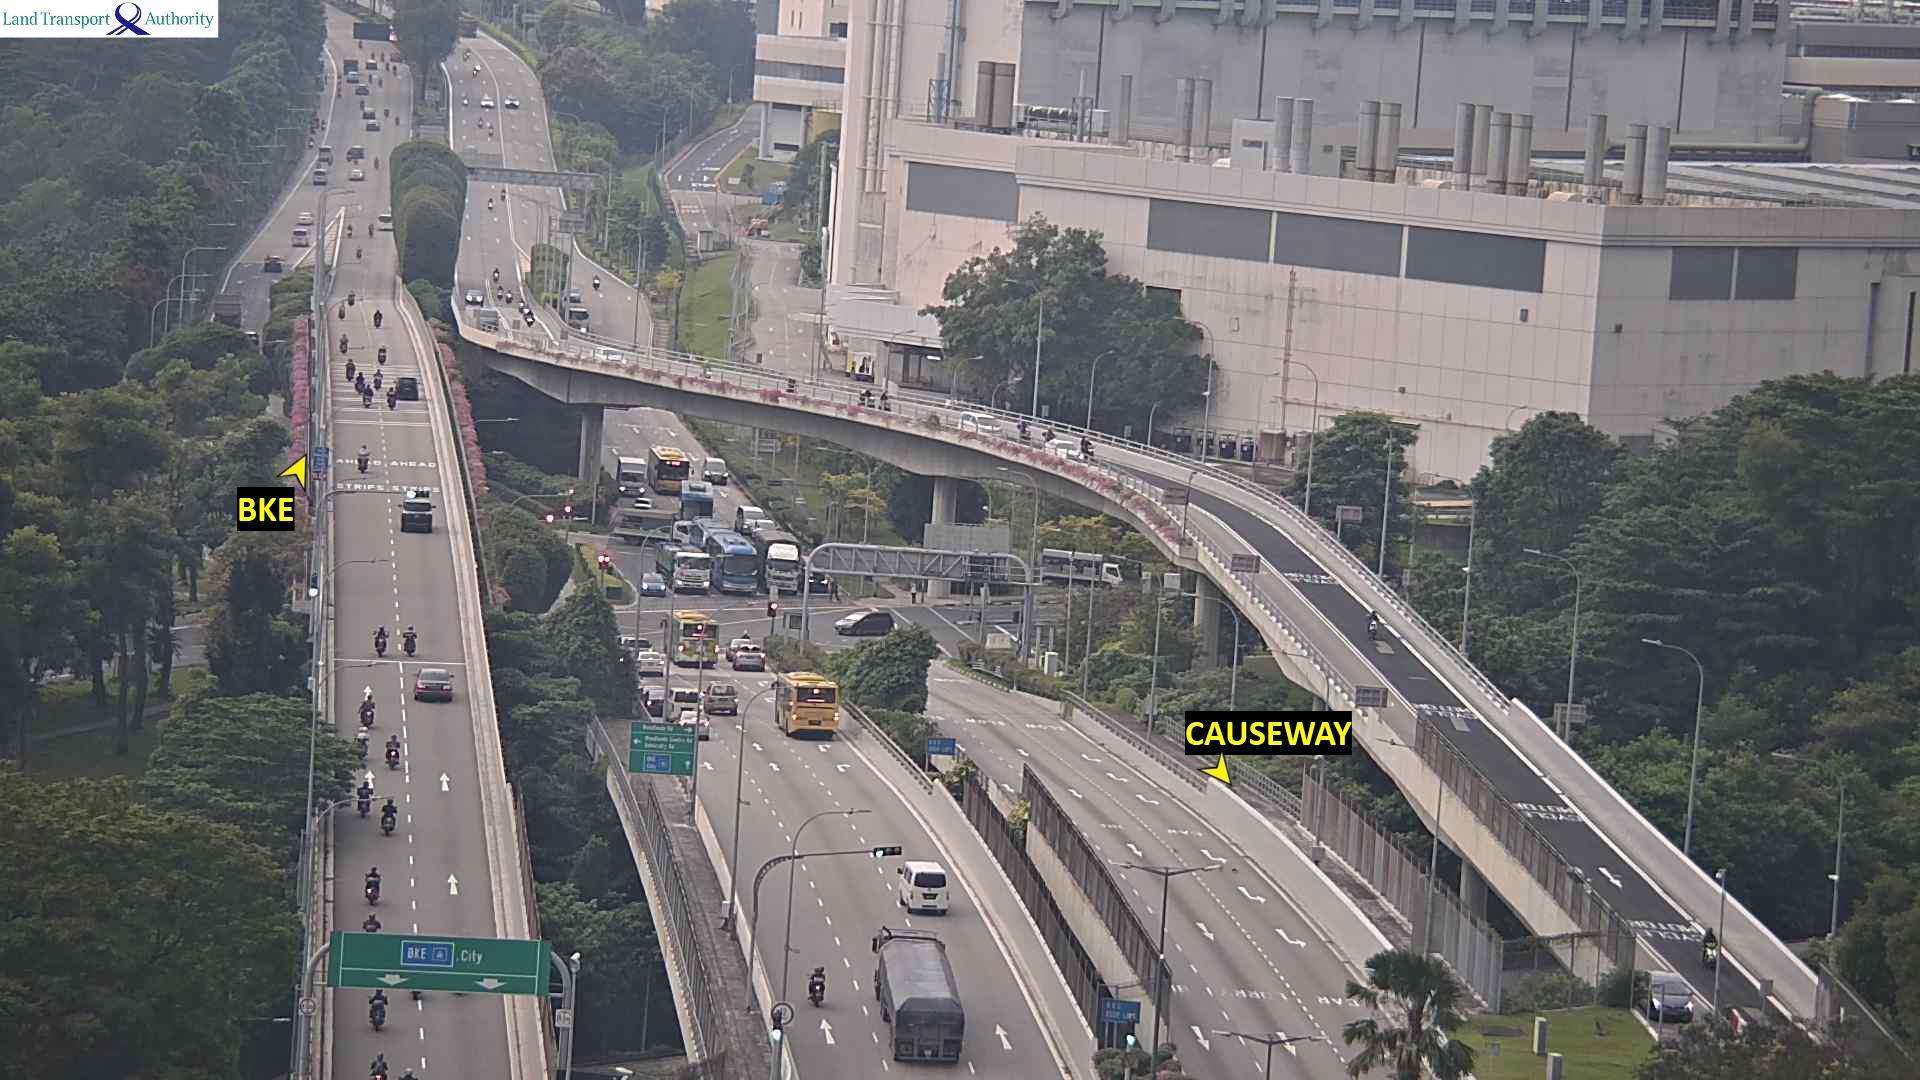vehicle-causeway-johor: (959, 411, 1005, 439), (465, 306, 498, 331), (1046, 439, 1083, 459), (589, 345, 625, 363), (1364, 608, 1379, 634), (1079, 435, 1095, 459), (462, 289, 484, 303), (860, 386, 872, 409), (1019, 419, 1031, 440), (700, 359, 712, 377), (880, 390, 890, 410), (786, 376, 795, 390), (525, 311, 534, 326), (1042, 429, 1054, 439), (506, 289, 513, 306), (493, 268, 500, 284), (497, 285, 504, 299)
vehicle-causeway-singapore: (870, 927, 963, 1062), (777, 670, 837, 741), (895, 857, 948, 916), (662, 611, 717, 665), (414, 663, 454, 702), (400, 498, 433, 537), (675, 712, 709, 740), (705, 683, 738, 711), (667, 687, 698, 716), (804, 965, 824, 1009), (735, 644, 766, 670), (369, 988, 384, 1029), (637, 651, 665, 673), (359, 694, 376, 725), (386, 732, 401, 769), (355, 728, 372, 758), (365, 866, 380, 902), (382, 799, 397, 835), (373, 621, 388, 654), (729, 630, 750, 653), (646, 687, 666, 711), (357, 782, 372, 812), (371, 1052, 386, 1080), (402, 625, 418, 653), (361, 913, 380, 931), (386, 386, 396, 410), (402, 1067, 418, 1080), (359, 444, 367, 471), (410, 990, 422, 1001)
